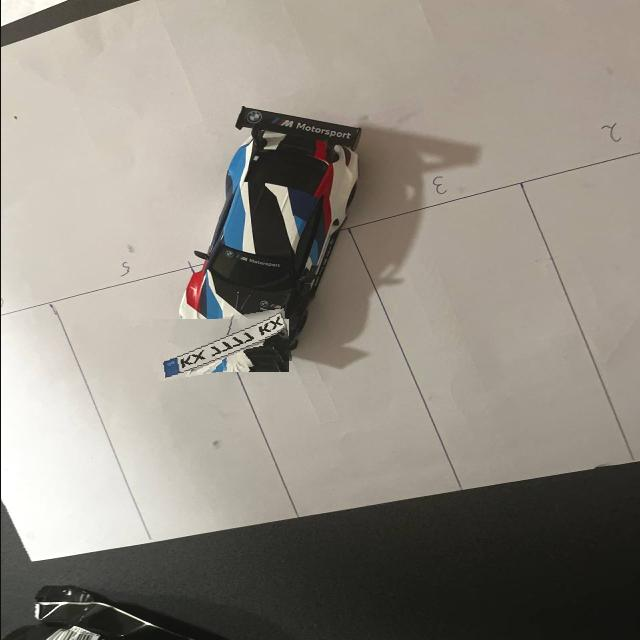KX 7777 KX: (157, 309, 286, 381)
